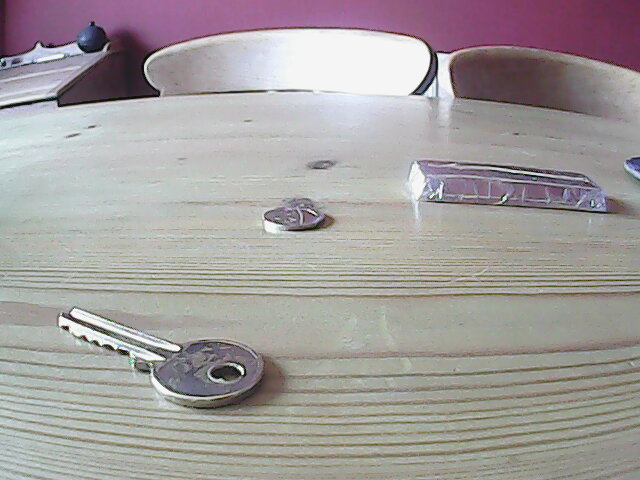Coin: (259, 204, 329, 240)
Foil: (406, 157, 611, 221)
Key: (50, 302, 273, 414)
